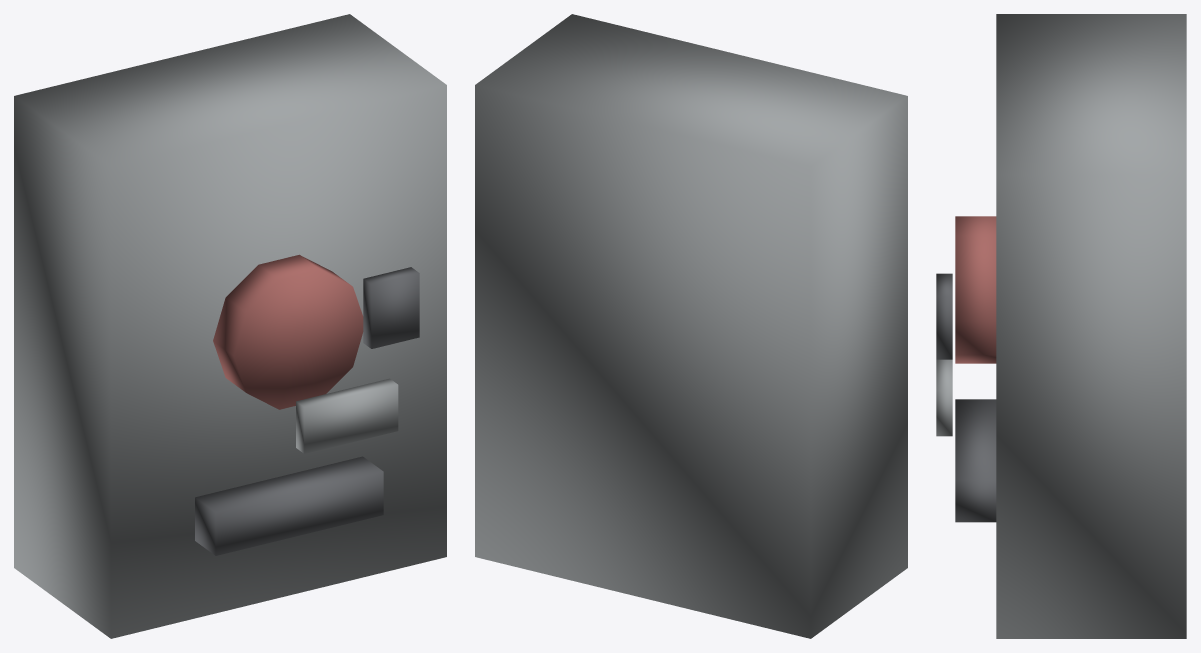
The model's file is sanitation_dispenser__weathered.glb.
3 views of the same model, side by side, from view 1: azimuth 30°, elevation 25°; view 2: azimuth 150°, elevation 25°; view 3: azimuth 270°, elevation 25° (orthographic).
Visible parts, largest first — view 1: world; view 2: world; view 3: world.
Part boxes in pixels (x1=…): world: x1=14, y1=14, x2=446, y2=638; world: x1=475, y1=14, x2=907, y2=638; world: x1=936, y1=14, x2=1186, y2=638.
Bounding box in the file's own units: 0.28 × 0.3762 × 0.184.
